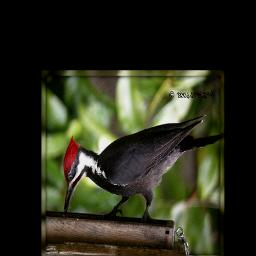Woodpecker: (63, 114, 224, 221)
